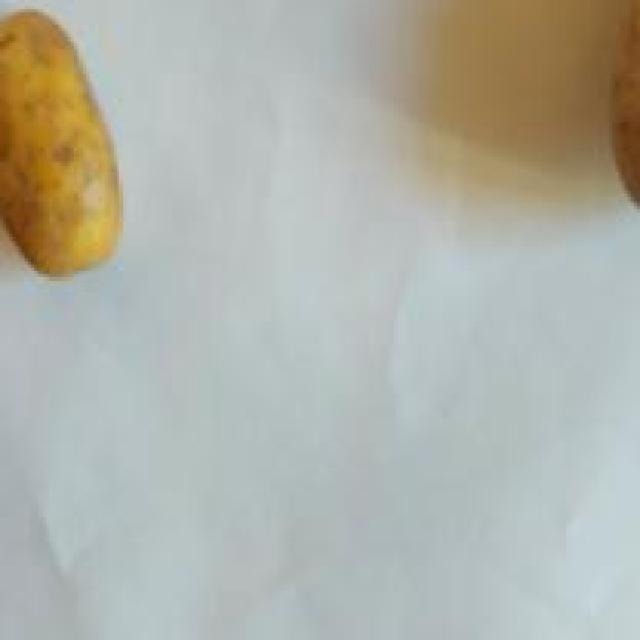potato: (0, 6, 129, 283)
